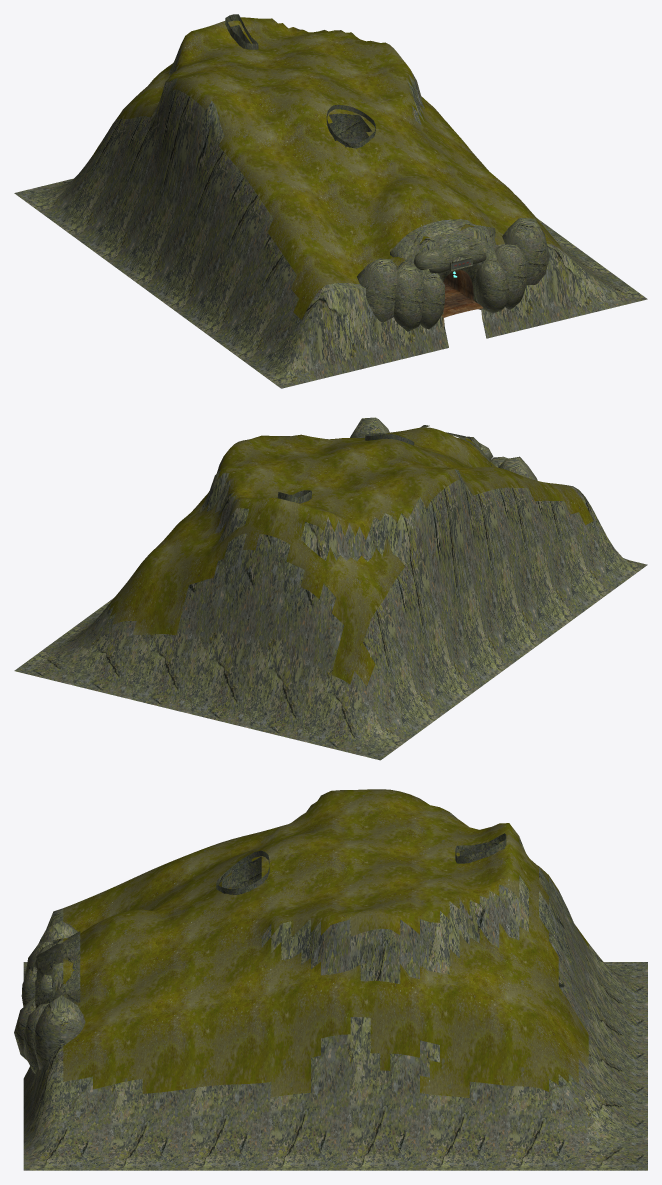
The model's file is v0995_yanxia_grand_cave.glb.
The picture shows the model from 3 angles, top to bottom: view 1: azimuth 30°, elevation 25°; view 2: azimuth 150°, elevation 25°; view 3: azimuth 270°, elevation 25°; orthographic projection. The views are drawn at different scales.
Parts seen in each view (by area): view 1: Cave_Exterior_Mountain, Cave_Interior_Rock; view 2: Cave_Exterior_Mountain, Cave_Interior_Rock; view 3: Cave_Exterior_Mountain, Cave_Interior_Rock.
Boxes of the visible parts, x1,y1,x2,y2 form: Cave_Exterior_Mountain: (14,17,647,388); Cave_Interior_Rock: (225,14,483,317); Cave_Exterior_Mountain: (14,417,647,760); Cave_Interior_Rock: (277,433,414,503); Cave_Exterior_Mountain: (14,789,647,1170); Cave_Interior_Rock: (216,833,506,894).
Size of the model in its own units: 44.5 by 21.39 by 57.07.
Materials: 17 (9 with a texture image).
